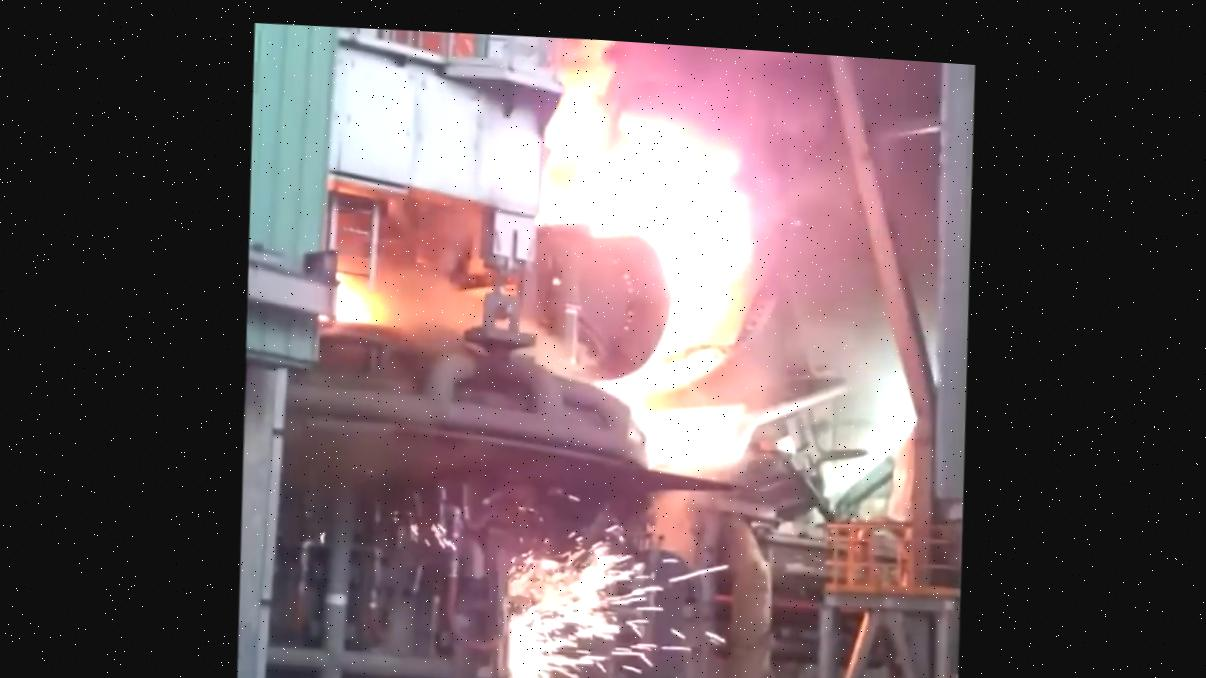fire: (326, 73, 905, 678)
